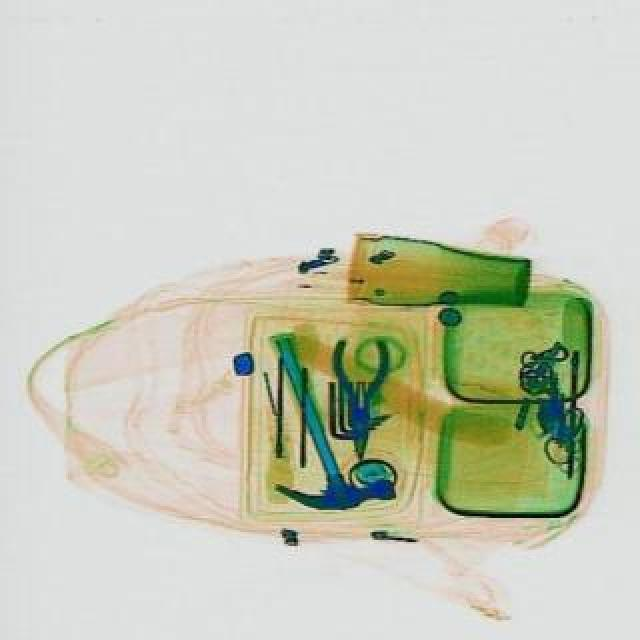wrench: (328, 338, 388, 462)
